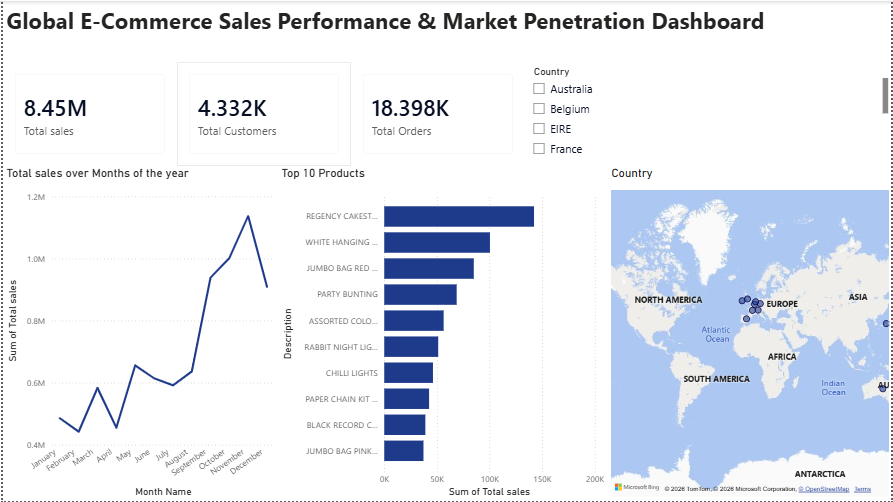

The page's visual inventory and layout, read from the dashboard file:
{"tool":"powerbi","page":{"name":"Page 1","canvas":[1280,720],"ordinal":0},"visuals":[{"type":"cardVisual","fields":{"Data":["Sum(Book1.Total sales)"]},"box":[0,87.8,250.3,149.5],"z":0},{"type":"cardVisual","fields":{"Data":["Count(Book1.CustomerID)"]},"box":[250.6,87.8,250.6,149.8],"z":1000},{"type":"textbox","box":[0,0,1280.2,87.8],"z":2000},{"type":"cardVisual","fields":{"Data":["Count(Book1.InvoiceNo)"]},"box":[501.1,87.8,250.6,149.8],"z":3000},{"type":"lineChart","title":"Total sales over Months of the year","fields":{"Category":["Book1.Month Name"],"Y":["Sum(Book1.Total sales)"]},"box":[0,237.6,396,482.4],"z":4000},{"type":"clusteredBarChart","title":"Top 10 Products","fields":{"Category":["Book1.Description"],"Y":["Sum(Book1.Total sales)"]},"box":[396,237.6,475.2,482.4],"z":5000},{"type":"map","fields":{"Category":["Book1.Country"]},"box":[871.2,237.6,409,482.4],"z":6000},{"type":"slicer","fields":{"Values":["Book1.Country"]},"box":[752,88,528,150],"z":6001}]}

Visuals, with their boxes in screenshot pixels (x1, y1, x2, y2), scaled from the page's 1280x720 canvas onto the 893x502 screenshot:
cardVisual - Sum(Book1.Total sales): box=[0, 61, 175, 165]
cardVisual - Count(Book1.CustomerID): box=[175, 61, 350, 166]
textbox: box=[0, 0, 892, 61]
cardVisual - Count(Book1.InvoiceNo): box=[350, 61, 524, 166]
"Total sales over Months of the year" lineChart: box=[0, 166, 276, 501]
"Top 10 Products" clusteredBarChart: box=[276, 166, 608, 501]
map - Book1.Country: box=[608, 166, 892, 501]
slicer - Book1.Country: box=[525, 61, 892, 166]
